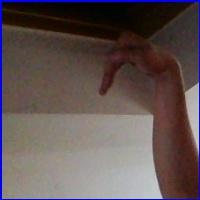A: (96, 24, 176, 100)
